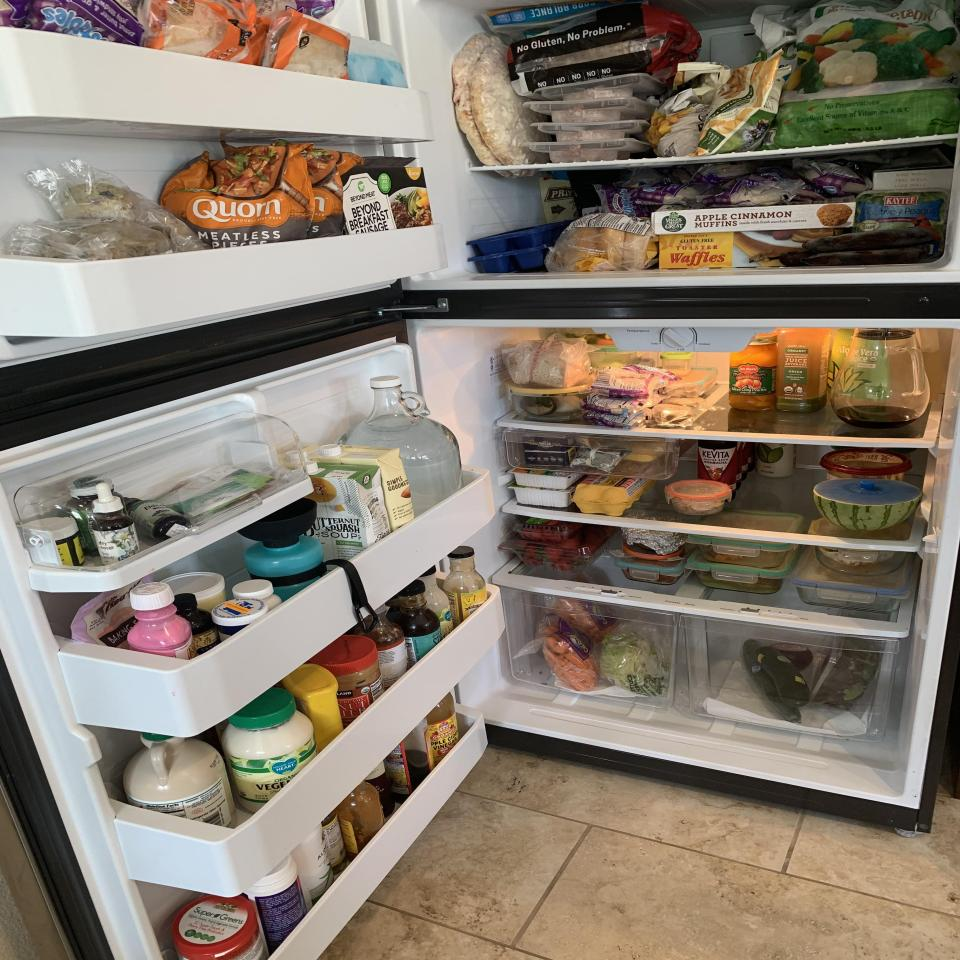Huevos: (571, 474, 655, 516)
Lechuga/Endivia: (599, 628, 671, 697)
Pepino: (742, 639, 802, 724), (755, 647, 811, 707)
Zanahoria: (536, 620, 600, 692), (544, 596, 618, 641)
mayonnaise: (221, 688, 315, 812)
mustard: (283, 664, 345, 754)
strawberries: (499, 527, 623, 572)
